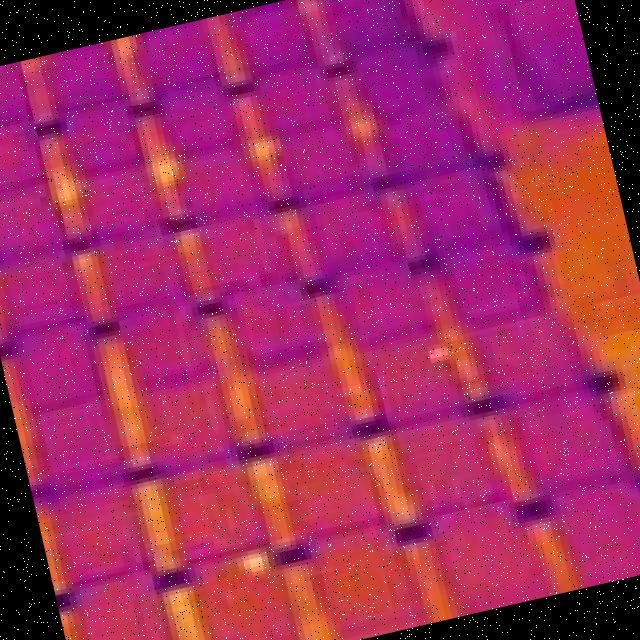Hotspot: (242, 551, 271, 577), (427, 340, 455, 362)
